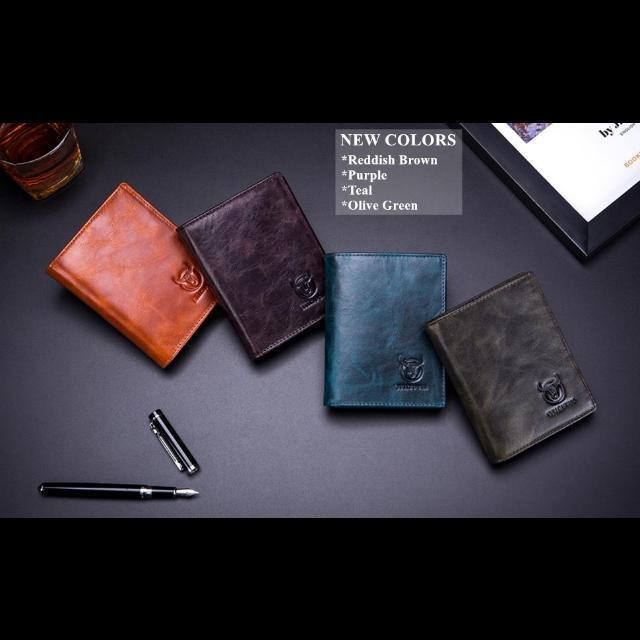wallet: (41, 177, 223, 375), (420, 267, 602, 463), (174, 166, 330, 390), (331, 250, 449, 422)
